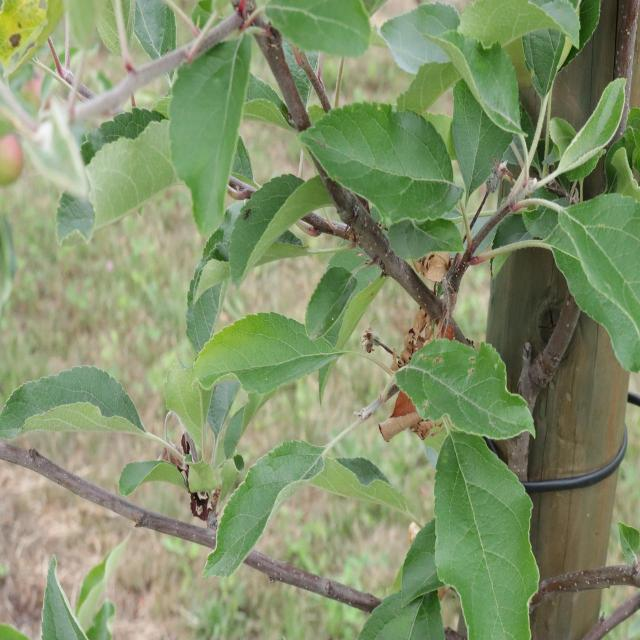-FireBlight-: (406, 213, 462, 439)
